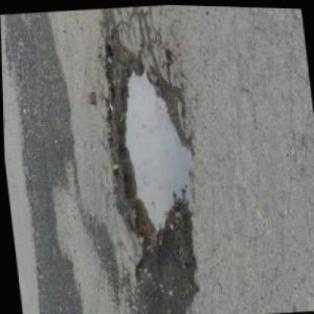Hueco: (88, 32, 202, 251)
